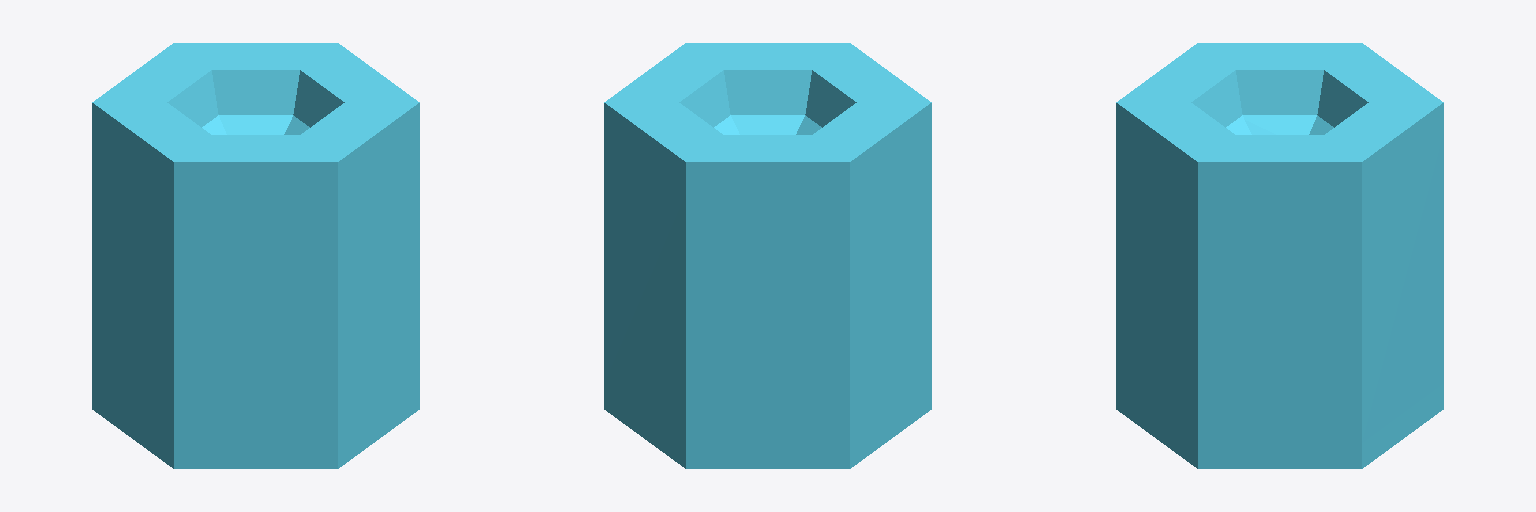
Rendered from Fulg4.obj.
The picture shows the model from 3 angles: view 1: azimuth 30°, elevation 25°; view 2: azimuth 150°, elevation 25°; view 3: azimuth 270°, elevation 25°; orthographic projection.
Visible parts, largest first — view 1: Plane; view 2: Plane; view 3: Plane.
Boxes of the visible parts, x1=… form: Plane: x1=92, y1=43, x2=419, y2=468; Plane: x1=604, y1=43, x2=931, y2=468; Plane: x1=1116, y1=43, x2=1443, y2=468.
Size of the model in its own units: 0.3644 by 0.4355 by 0.4208.